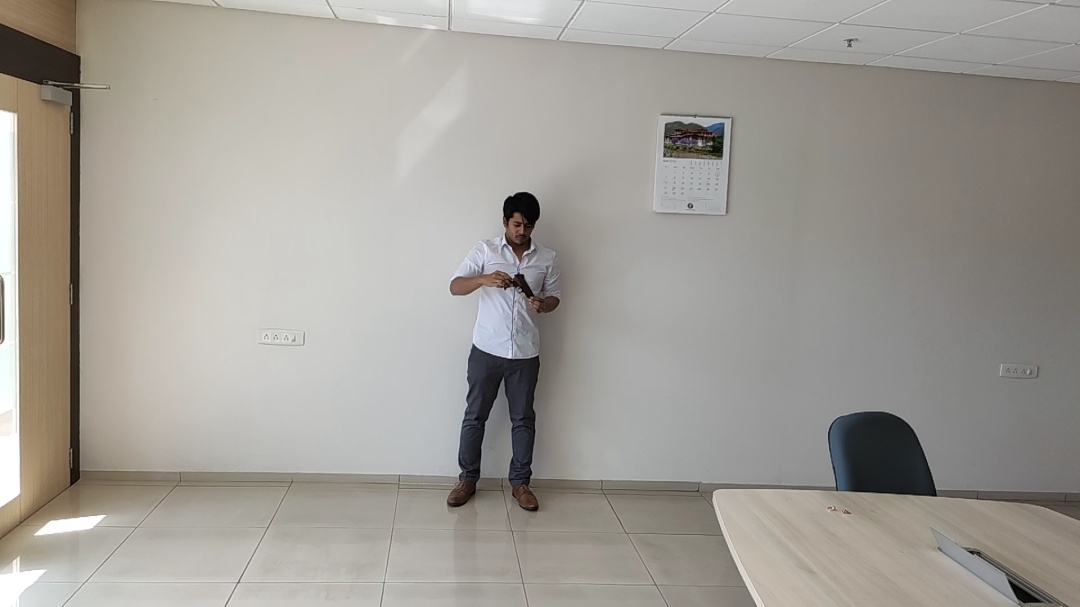gun: (236, 106, 545, 607)
